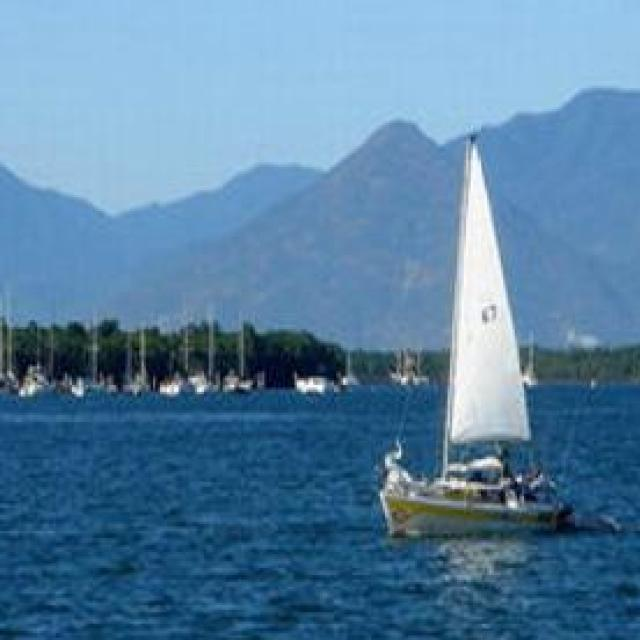sailboat: (379, 121, 578, 534)
